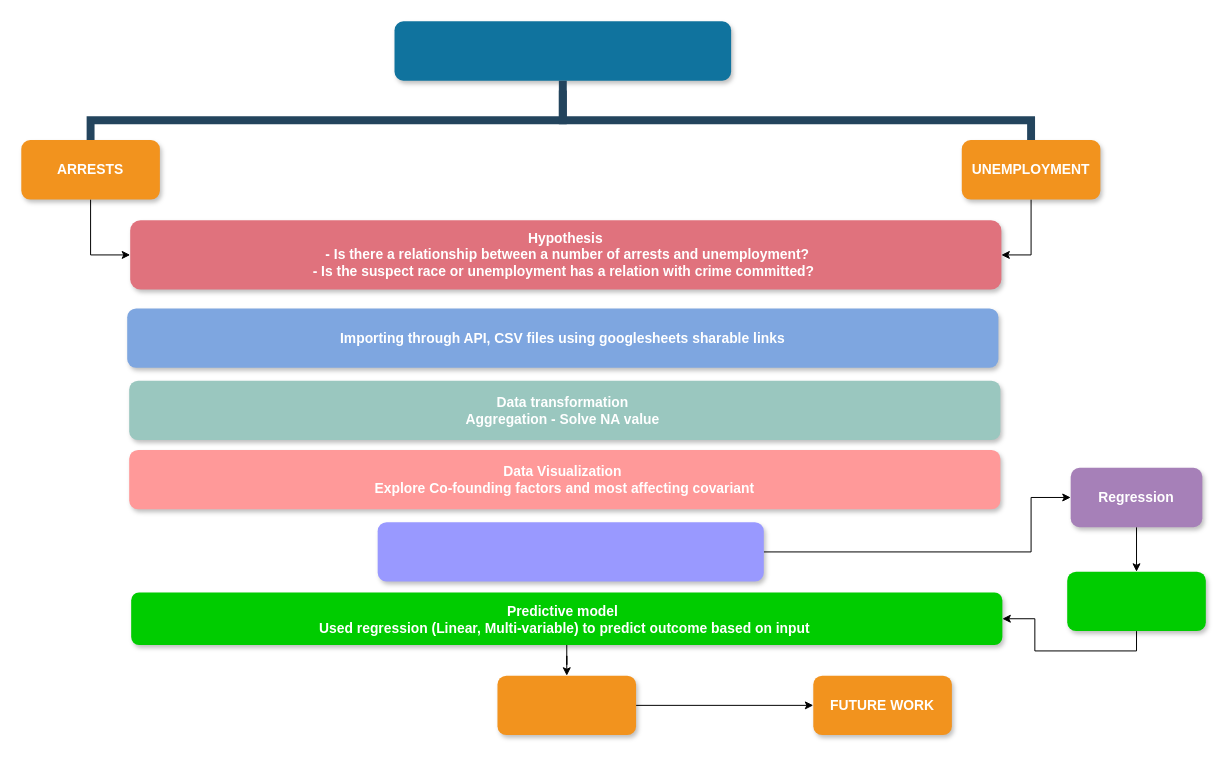
The diagram is 1229 pixels wide and 758 high, and some of its shapes have lost their labels. Each missing label, with the centre of its shape:
"CONCLUSION" belongs at (567,706).
"Investigating crimes in NYC" belongs at (563,52).
"Model building" belongs at (1137,602).
"Statistical Analysis Correlation between dependent outcome and variables" belongs at (571,553).
